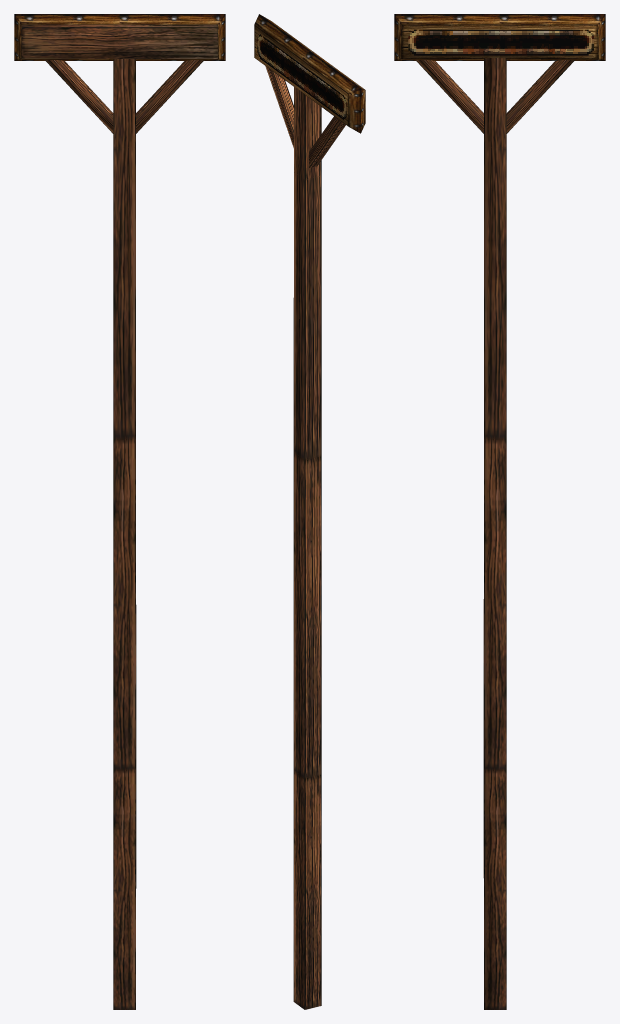
File: INST_WH2_PLAT_POST.fbx
The picture shows the model from 3 angles, left to right: view 1: azimuth 90°, elevation 25°; view 2: azimuth 210°, elevation 25°; view 3: azimuth 270°, elevation 25°; orthographic projection. The views are drawn at different scales.
Visible parts, largest first — view 1: INST_WH2_PLAT_POST; view 2: INST_WH2_PLAT_POST; view 3: INST_WH2_PLAT_POST.
Boxes of the visible parts, x1,y1,x2,y2 form: INST_WH2_PLAT_POST: [14, 14, 225, 1009]; INST_WH2_PLAT_POST: [254, 14, 365, 1009]; INST_WH2_PLAT_POST: [394, 14, 605, 1009].
Bounding box in the file's own units: 2116 × 113738 × 21945.
5 materials, 5 textured.
